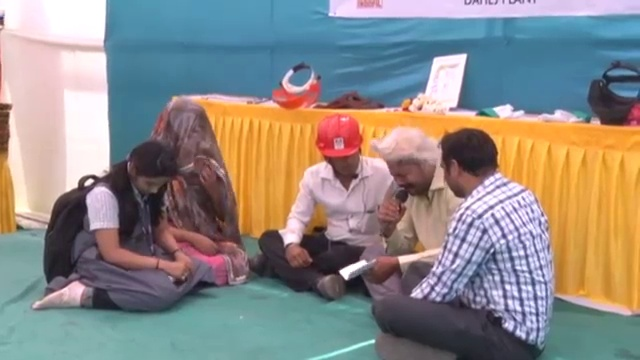helmet: (309, 114, 363, 162)
helmet_off: (439, 127, 506, 206), (382, 125, 439, 203), (155, 105, 221, 172), (123, 144, 178, 203)
helmet_on: (307, 114, 375, 189)
person: (372, 122, 555, 358), (250, 106, 401, 299), (35, 141, 207, 307), (154, 104, 253, 293), (360, 120, 465, 298)
